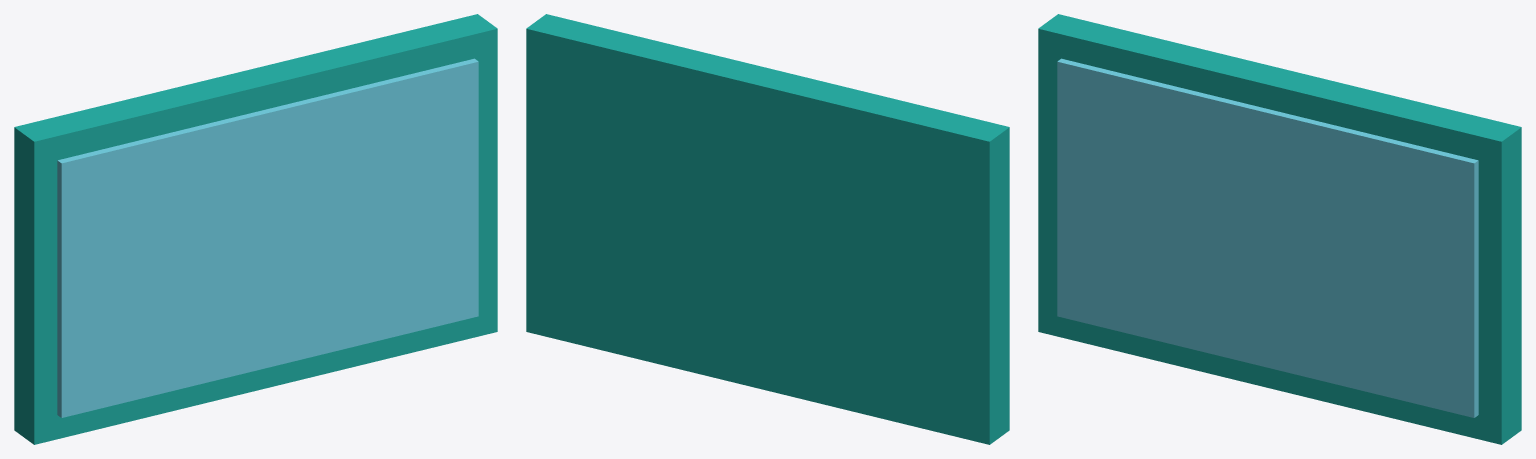
The model's file is answer_board.obj.
3 views of the same model, side by side, from view 1: azimuth 30°, elevation 25°; view 2: azimuth 150°, elevation 25°; view 3: azimuth 330°, elevation 25° (orthographic).
Parts seen in each view (by area): view 1: part_1, part_0; view 2: part_0; view 3: part_1, part_0.
Part boxes in pixels (bbox=[...]): part_1: bbox=[57, 58, 478, 417]; part_0: bbox=[14, 14, 497, 444]; part_0: bbox=[526, 14, 1009, 444]; part_1: bbox=[1057, 58, 1478, 417]; part_0: bbox=[1038, 14, 1521, 444].
Size of the model in its own units: 1.6 by 1 by 0.145.
